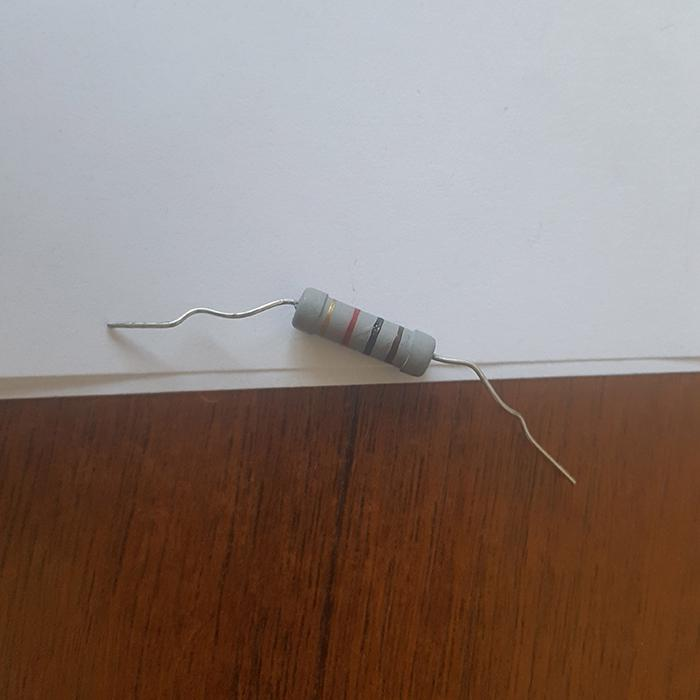resistor: (288, 286, 437, 376)
